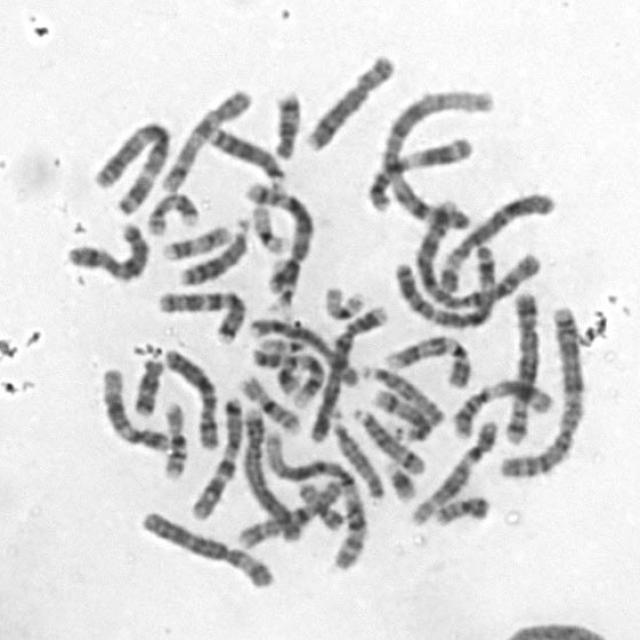A1: (368, 80, 498, 226), (254, 423, 371, 573)
A2: (493, 295, 590, 481), (407, 190, 502, 328)
A3: (386, 237, 500, 330), (87, 112, 173, 217)
B4: (304, 298, 392, 444), (235, 396, 307, 544)
B5: (238, 174, 316, 299), (498, 282, 544, 449)
C10: (154, 80, 254, 194), (229, 472, 349, 550)
C11: (360, 128, 476, 212), (444, 369, 556, 442)
C12: (404, 411, 501, 527), (94, 360, 174, 452)
C6: (431, 183, 559, 292), (135, 503, 276, 591)
C7: (184, 388, 248, 521), (150, 281, 248, 346)
C8: (299, 46, 398, 152), (243, 310, 360, 388)
C9: (378, 326, 474, 388), (265, 346, 326, 406)
D13: (170, 210, 250, 287), (200, 119, 288, 186)
D14: (347, 399, 429, 477), (368, 381, 433, 444)
D15: (355, 357, 447, 431), (325, 413, 387, 500)
E16: (230, 367, 304, 435), (155, 393, 191, 481)
E17: (155, 216, 235, 262), (140, 184, 201, 237)
E18: (266, 83, 303, 161), (126, 351, 166, 416)
F19: (244, 194, 291, 255), (317, 277, 369, 321)
F20: (291, 474, 348, 532), (425, 487, 493, 528)
G21: (379, 454, 421, 503), (272, 358, 304, 398)
G22: (264, 252, 301, 311), (250, 331, 308, 354)
X: (158, 341, 222, 452), (58, 213, 152, 284)
